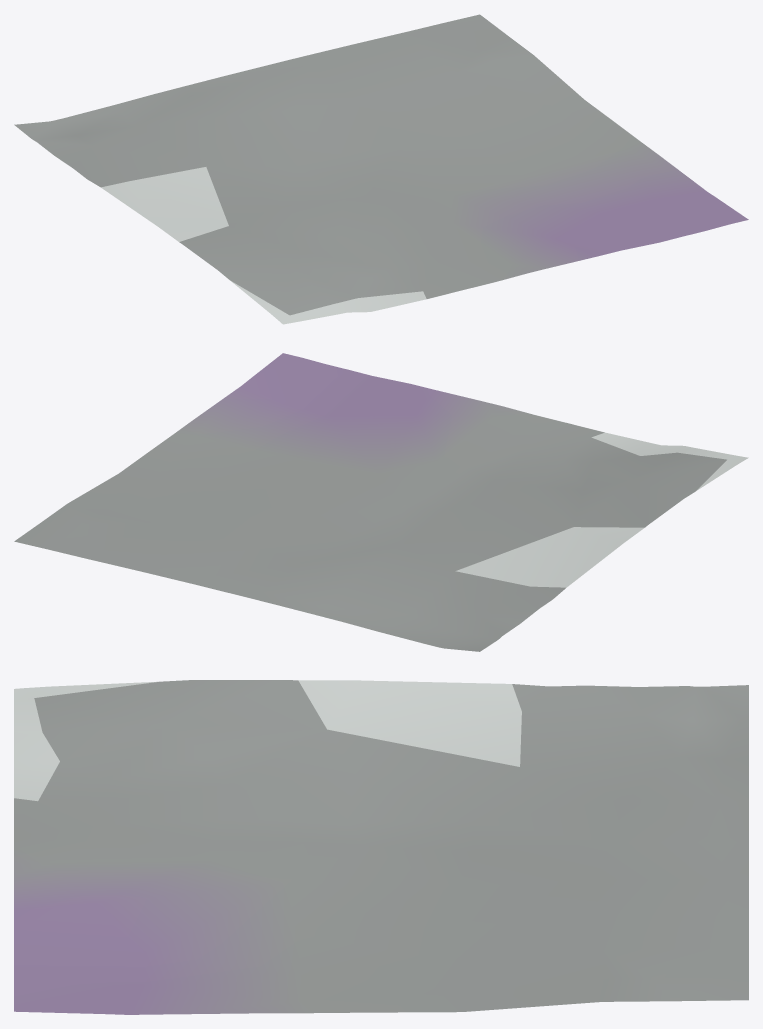
3 renders of one model, top to bottom at view 1: azimuth 30°, elevation 25°; view 2: azimuth 150°, elevation 25°; view 3: azimuth 270°, elevation 25°, orthographic. The views are drawn at different scales.
Parts seen in each view (by area): view 1: G:\FFXIV-MapTools\exports\m5f1\bg\ex4\02_mid_m5\fld\m5f1\bgp (×2); view 2: G:\FFXIV-MapTools\exports\m5f1\bg\ex4\02_mid_m5\fld\m5f1\bgp (×2); view 3: G:\FFXIV-MapTools\exports\m5f1\bg\ex4\02_mid_m5\fld\m5f1\bgp (×2).
Part boxes in pixels (bbox=[...]): G:\FFXIV-MapTools\exports\m5f1\bg\ex4\02_mid_m5\fld\m5f1\bgp (×2): bbox=[14, 14, 748, 324]; G:\FFXIV-MapTools\exports\m5f1\bg\ex4\02_mid_m5\fld\m5f1\bgp (×2): bbox=[14, 353, 748, 651]; G:\FFXIV-MapTools\exports\m5f1\bg\ex4\02_mid_m5\fld\m5f1\bgp (×2): bbox=[14, 680, 748, 1014].
Size of the model in its own units: 128 by 5.34 by 128.
